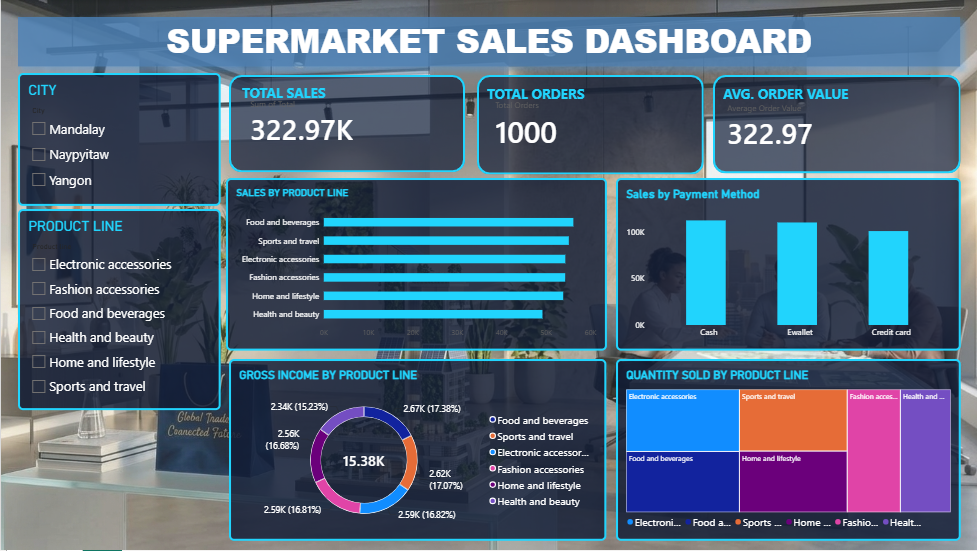

This screenshot's page, from the dashboard's own definition file:
{"tool":"powerbi","page":{"name":"Page 1","canvas":[1920,1080],"ordinal":0},"visuals":[{"type":"shape","box":[447.7,147.7,463.6,190.9],"z":0},{"type":"cardVisual","title":"Total Sales","fields":{"Data":["Sum(supermarket_Sales.Total)"]},"box":[472.7,177.3,279.5,131.8],"z":1000},{"type":"textbox","title":"SUPERMARKET SALES DASHBOARD","box":[33.3,33.3,1850,96.7],"z":2000},{"type":"textbox","box":[472.7,163.6,393.2,59.1],"z":3000},{"type":"shape","box":[934.1,147.7,445.5,195.5],"z":4000},{"type":"textbox","box":[954.5,165.9,334.1,59.1],"z":5000},{"type":"cardVisual","fields":{"Data":["supermarket_Sales.Total Orders"]},"box":[954.5,177.3,304.5,140.9],"z":6000},{"type":"clusteredBarChart","title":"SALES BY PRODUCT LINE","fields":{"Category":["supermarket_Sales.Product line"],"Y":["Sum(supermarket_Sales.Total)"]},"box":[440.9,350,747.7,338.6],"z":7000},{"type":"clusteredColumnChart","title":"Sales by Payment Method","fields":{"Category":["supermarket_Sales.Payment"],"Y":["Sum(supermarket_Sales.Total)"]},"box":[1206.8,350,677.3,338.6],"z":8000},{"type":"slicer","title":"CITY","fields":{"Values":["supermarket_Sales.City"]},"box":[34.1,143.2,397.7,261.4],"z":9000},{"type":"slicer","title":"PRODUCT LINE","fields":{"Values":["supermarket_Sales.Product line"]},"box":[34.1,411.4,397.7,395.5],"z":10000},{"type":"shape","box":[1397.7,147.7,486.4,193.2],"z":11000},{"type":"textbox","box":[1418.2,165.9,425,40.9],"z":11001},{"type":"cardVisual","fields":{"Data":["supermarket_Sales.Average Order Value"]},"box":[1409.1,193.2,270.5,115.9],"z":11002},{"type":"donutChart","title":"GROSS INCOME BY PRODUCT LINE","fields":{"Y":["Sum(supermarket_Sales.Gross income)"],"Category":["supermarket_Sales.Product line"]},"box":[447.7,704.5,740.9,356.8],"z":11003},{"type":"treemap","title":"QUANTITY SOLD BY PRODUCT LINE","fields":{"Group":["supermarket_Sales.Product line"],"Values":["Sum(supermarket_Sales.Quantity)"]},"box":[1206.8,704.5,677.3,356.8],"z":11004}]}

Visuals, with their boxes in screenshot pixels (x1, y1, x2, y2), scaled from the page's 1920x1080 canvas onto the 977x551 screenshot:
shape: 228 75 464 173
"Total Sales" cardVisual: 241 90 383 158
"SUPERMARKET SALES DASHBOARD" textbox: 17 17 958 66
textbox: 241 83 441 114
shape: 475 75 702 175
textbox: 486 85 656 115
cardVisual - supermarket_Sales.Total Orders: 486 90 641 162
"SALES BY PRODUCT LINE" clusteredBarChart: 224 179 605 351
"Sales by Payment Method" clusteredColumnChart: 614 179 959 351
"CITY" slicer: 17 73 220 206
"PRODUCT LINE" slicer: 17 210 220 412
shape: 711 75 959 174
textbox: 722 85 938 106
cardVisual - supermarket_Sales.Average Order Value: 717 99 855 158
"GROSS INCOME BY PRODUCT LINE" donutChart: 228 359 605 541
"QUANTITY SOLD BY PRODUCT LINE" treemap: 614 359 959 541
